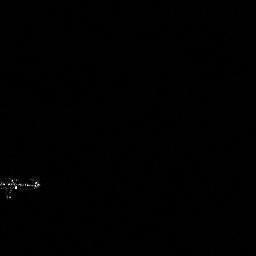ship: (1, 173, 46, 200)
